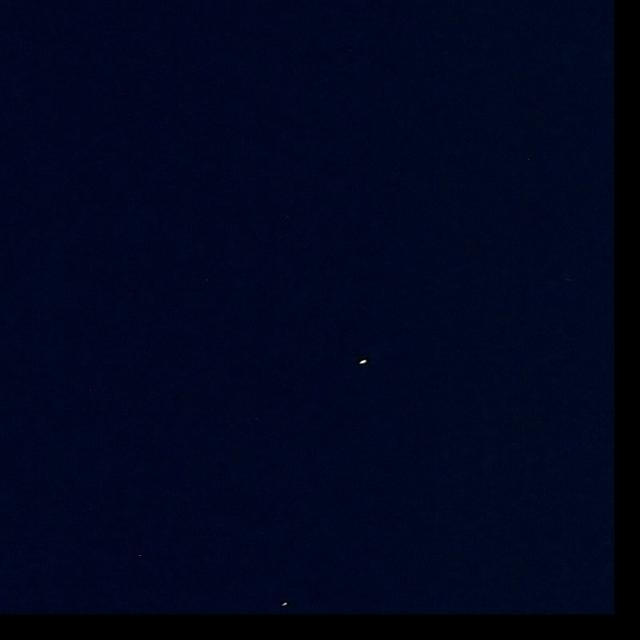ship: (358, 358, 368, 365), (282, 602, 287, 606)
